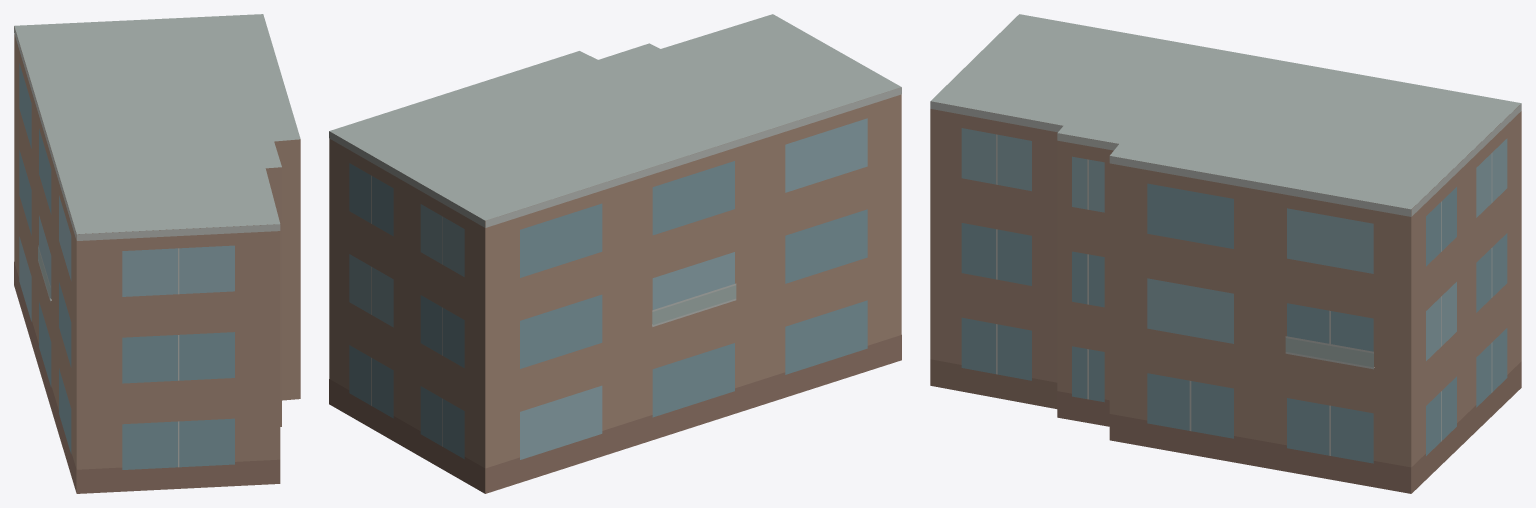
Rendered from survey-upis-33018062.glb.
3 renders of one model, left to right at view 1: azimuth 30°, elevation 25°; view 2: azimuth 150°, elevation 25°; view 3: azimuth 270°, elevation 25°, orthographic. The views are drawn at different scales.
Visible parts, largest first — view 1: survey-upis-33018062.tmp; view 2: survey-upis-33018062.tmp; view 3: survey-upis-33018062.tmp.
Boxes of the visible parts, left/top/right/bottom form: survey-upis-33018062.tmp: left=14, top=14, right=300, bottom=493; survey-upis-33018062.tmp: left=329, top=14, right=901, bottom=493; survey-upis-33018062.tmp: left=930, top=14, right=1521, bottom=493.
Bounding box in the file's own units: 13.49 × 9.15 × 17.24.
